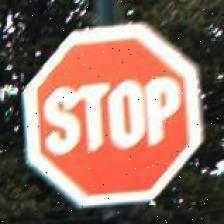Stop: (20, 20, 204, 205)
